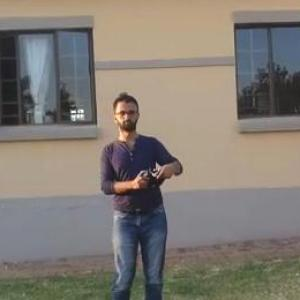follow: (95, 86, 189, 299)
